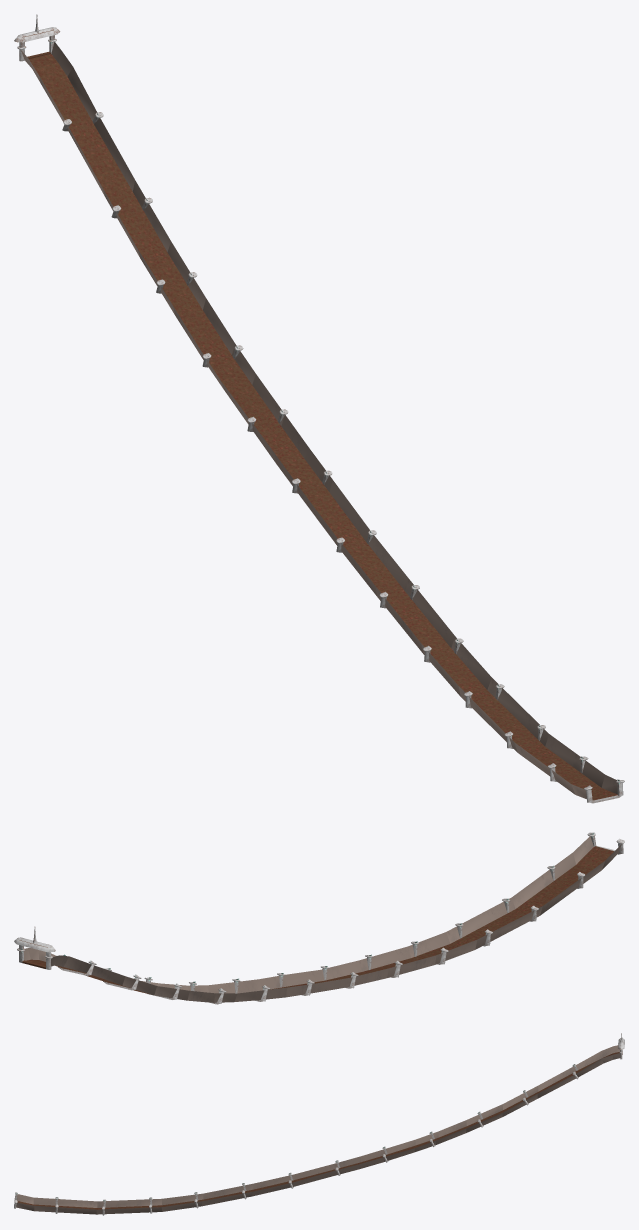
The model's file is Bridge.fbx.
The picture shows the model from 3 angles, top to bottom: view 1: azimuth 30°, elevation 25°; view 2: azimuth 150°, elevation 25°; view 3: azimuth 270°, elevation 25°; orthographic projection. The views are drawn at different scales.
Parts seen in each view (by area): view 1: Bridge (30).001; view 2: Bridge (30).001, Cube.005; view 3: Bridge (30).001.
Boxes of the visible parts, x1,y1,x2,y2 form: Bridge (30).001: (21, 42, 617, 800); Bridge (30).001: (24, 836, 621, 1002); Cube.005: (14, 926, 55, 969); Bridge (30).001: (16, 1045, 620, 1214).
Bounding box in the file's own units: 648620 × 41126 × 214225.
4 materials, 4 textured.
